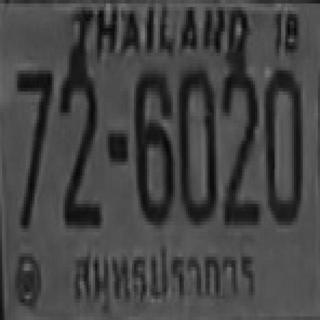N00: (264, 67, 301, 222), (177, 67, 214, 222)
N02: (60, 67, 98, 225), (221, 69, 257, 223), (63, 72, 99, 223)
N06: (133, 67, 172, 222)
N07: (15, 67, 52, 225), (15, 67, 52, 179)
P57: (68, 239, 262, 305)
